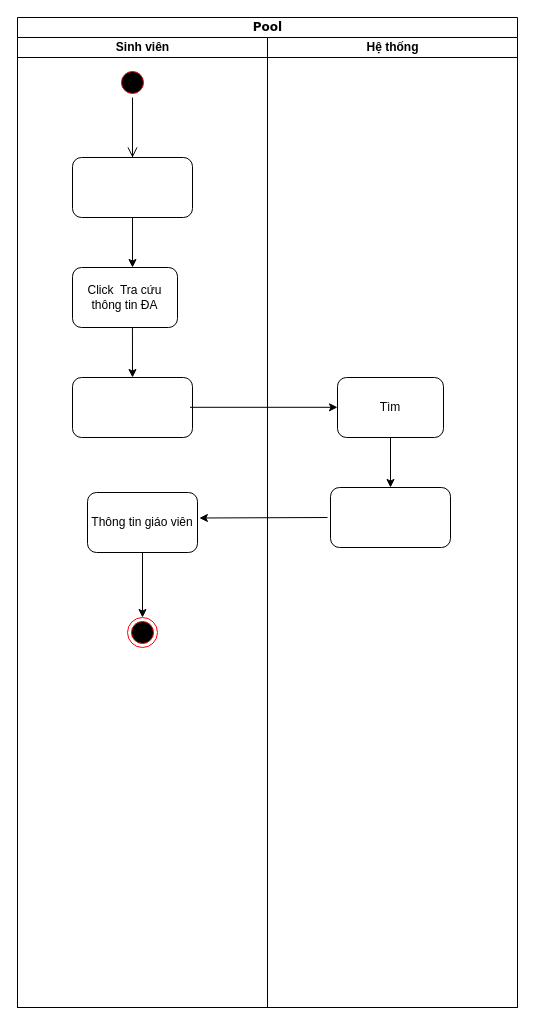
Some shapes in this 535 by 1025 pixel diagram are drawn without their labels. The box of each missing label's shape, as (x1, y1, x2, y2) in pixels:
Chọn giảng viên: (72, 376, 192, 438)
Chọn học phần: (72, 156, 192, 218)
Dữ liệu: (330, 486, 450, 548)
